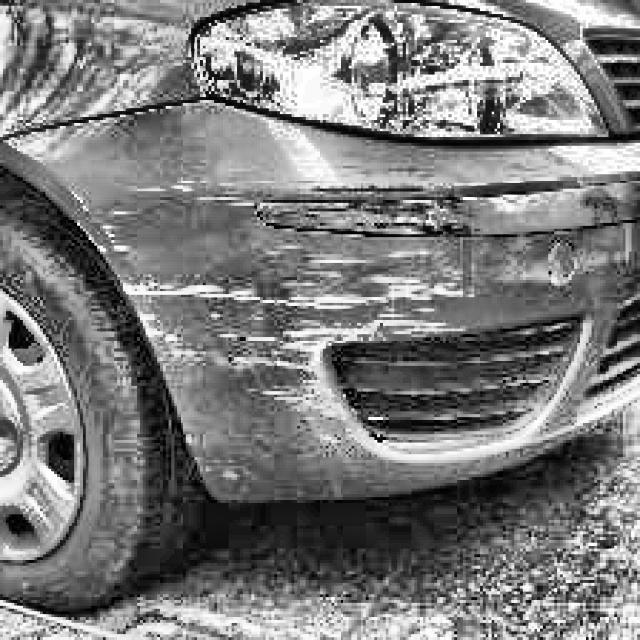bumper_scratch: (76, 185, 478, 459)
